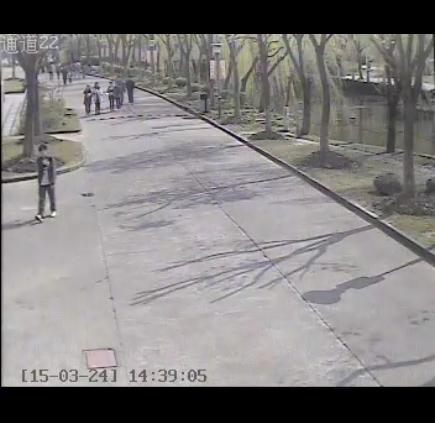person: (32, 141, 60, 225), (113, 74, 127, 110), (80, 81, 94, 117), (91, 81, 104, 116), (105, 79, 118, 113), (125, 73, 137, 108)
